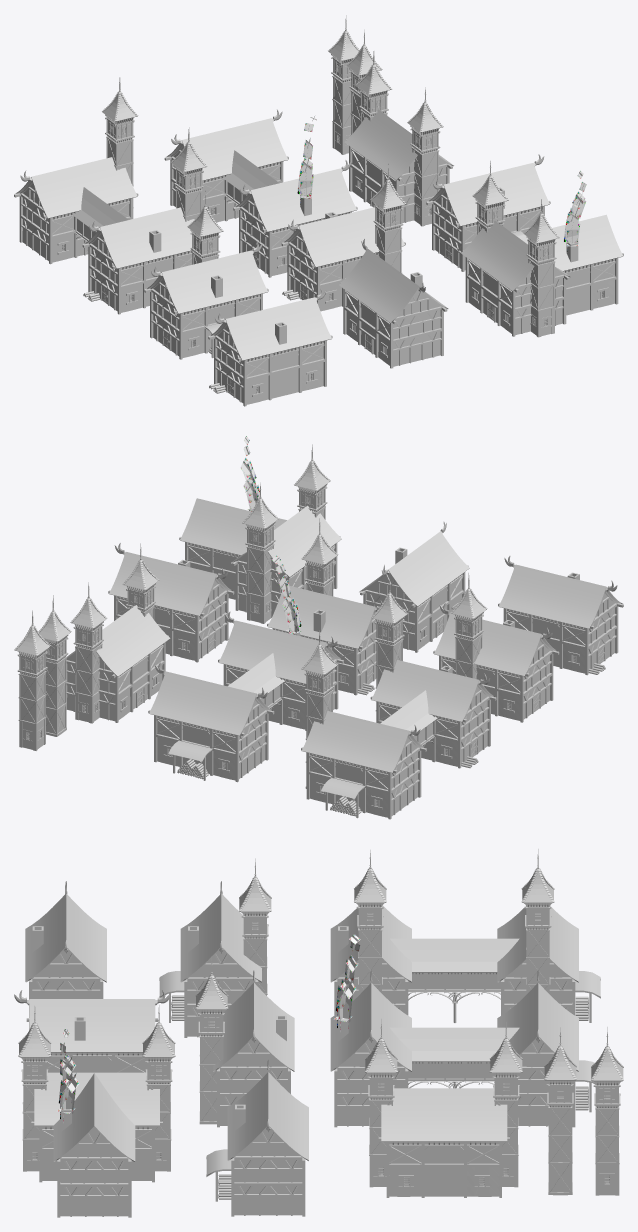
The model's file is MedievalHousesPixelart.fbx.
3 views of the same model, one above another, from view 1: azimuth 30°, elevation 25°; view 2: azimuth 150°, elevation 25°; view 3: azimuth 270°, elevation 25° (orthographic). The views are drawn at different scales.
Visible parts, largest first — view 1: Complex1, Lateral2, Complex2, Simple1, Mid1, Lateral1, Lateral, Mid2, Simple2, Tower2, Tower1, Smoke2 (+1 smaller); view 2: Complex1, Complex2, Lateral2, Lateral1, Mid1, Simple1, Mid2, Simple2, Lateral, Tower2, Tower1, Smoke1 (+1 smaller); view 3: Complex1, Lateral2, Complex2, Lateral1, Simple2, Mid2, Mid1, Lateral, Simple1, Tower1, Tower2, Smoke1 (+1 smaller).
Boxes of the visible parts, x1=… form: Complex1: x1=14, y1=77, x2=207, y2=314; Lateral2: x1=461, y1=161, x2=623, y2=337; Complex2: x1=164, y1=109, x2=357, y2=277; Simple1: x1=208, y1=288, x2=332, y2=406; Mid1: x1=144, y1=191, x2=268, y2=359; Lateral1: x1=344, y1=51, x2=453, y2=226; Lateral: x1=339, y1=239, x2=448, y2=368; Mid2: x1=281, y1=164, x2=406, y2=311; Simple2: x1=426, y1=154, x2=550, y2=271; Tower2: x1=328, y1=15, x2=359, y2=154; Tower1: x1=346, y1=29, x2=382, y2=134; Smoke2: x1=563, y1=170, x2=586, y2=252; Complex1: x1=301, y1=579, x2=496, y2=819; Complex2: x1=148, y1=611, x2=343, y2=782; Lateral2: x1=179, y1=444, x2=341, y2=623; Lateral1: x1=66, y1=543, x2=170, y2=723; Mid1: x1=433, y1=573, x2=559, y2=722; Simple1: x1=498, y1=556, x2=623, y2=675; Mid2: x1=267, y1=518, x2=382, y2=695; Simple2: x1=108, y1=543, x2=234, y2=662; Lateral: x1=359, y1=521, x2=469, y2=652; Tower2: x1=14, y1=610, x2=50, y2=750; Tower1: x1=38, y1=595, x2=71, y2=736; Smoke1: x1=272, y1=555, x2=301, y2=634; Complex1: x1=330, y1=849, x2=600, y2=1022; Lateral2: x1=18, y1=1005, x2=175, y2=1217; Complex2: x1=330, y1=970, x2=595, y2=1127; Lateral1: x1=365, y1=1019, x2=522, y2=1197; Simple2: x1=206, y1=1059, x2=308, y2=1216; Mid2: x1=195, y1=956, x2=294, y2=1127; Mid1: x1=159, y1=858, x2=271, y2=1037; Lateral: x1=14, y1=990, x2=170, y2=1072; Simple1: x1=25, y1=881, x2=106, y2=1029; Tower1: x1=544, y1=1027, x2=576, y2=1195; Tower2: x1=591, y1=1027, x2=623, y2=1195; Smoke1: x1=334, y1=934, x2=360, y2=1031.
Size of the model in its own units: 2467 by 900 by 2599.
